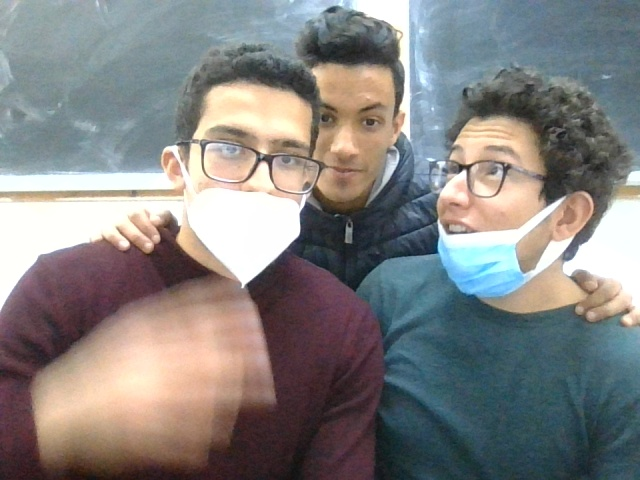mask_weared_incorrect: (428, 55, 614, 298), (176, 47, 318, 288)
without_mask: (316, 1, 409, 209)
